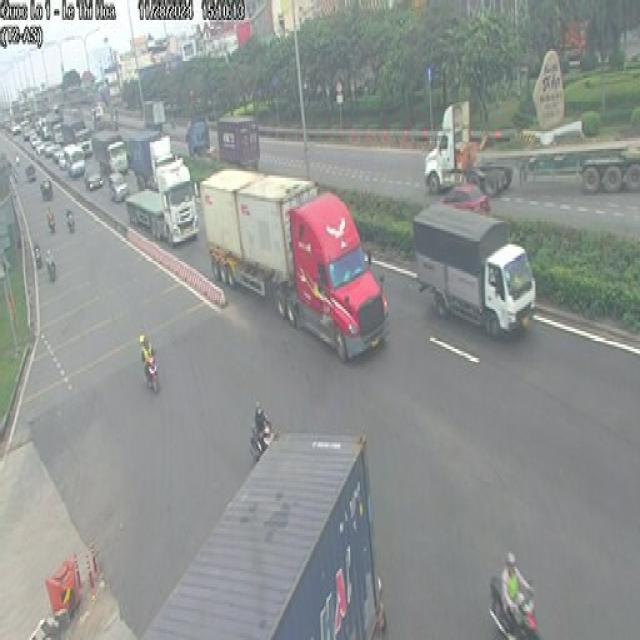car: (442, 176, 494, 217)
container-truck: (139, 425, 390, 640), (194, 154, 393, 367), (423, 94, 640, 203), (127, 159, 199, 250), (186, 115, 270, 176)
truck: (407, 192, 543, 340)
